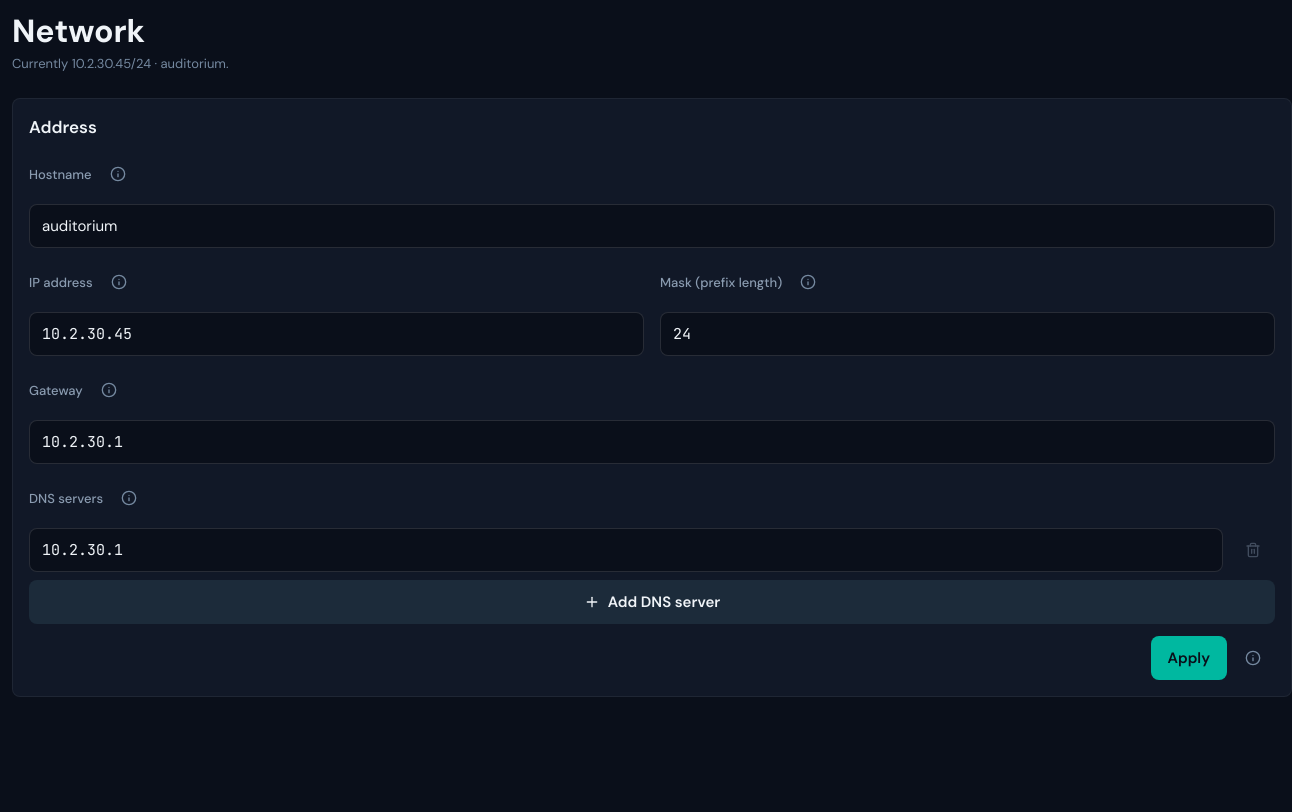
Test: NetworkScreen — validation › keeps Apply from submitting, and reports every failing field, on invalid input
Expected: the field showing "auditorium" is shown, [29,204,1275,248]
Replace the text in the field labelled "IP address" with "not-an-address" at [336, 334], box [29,312,644,356]
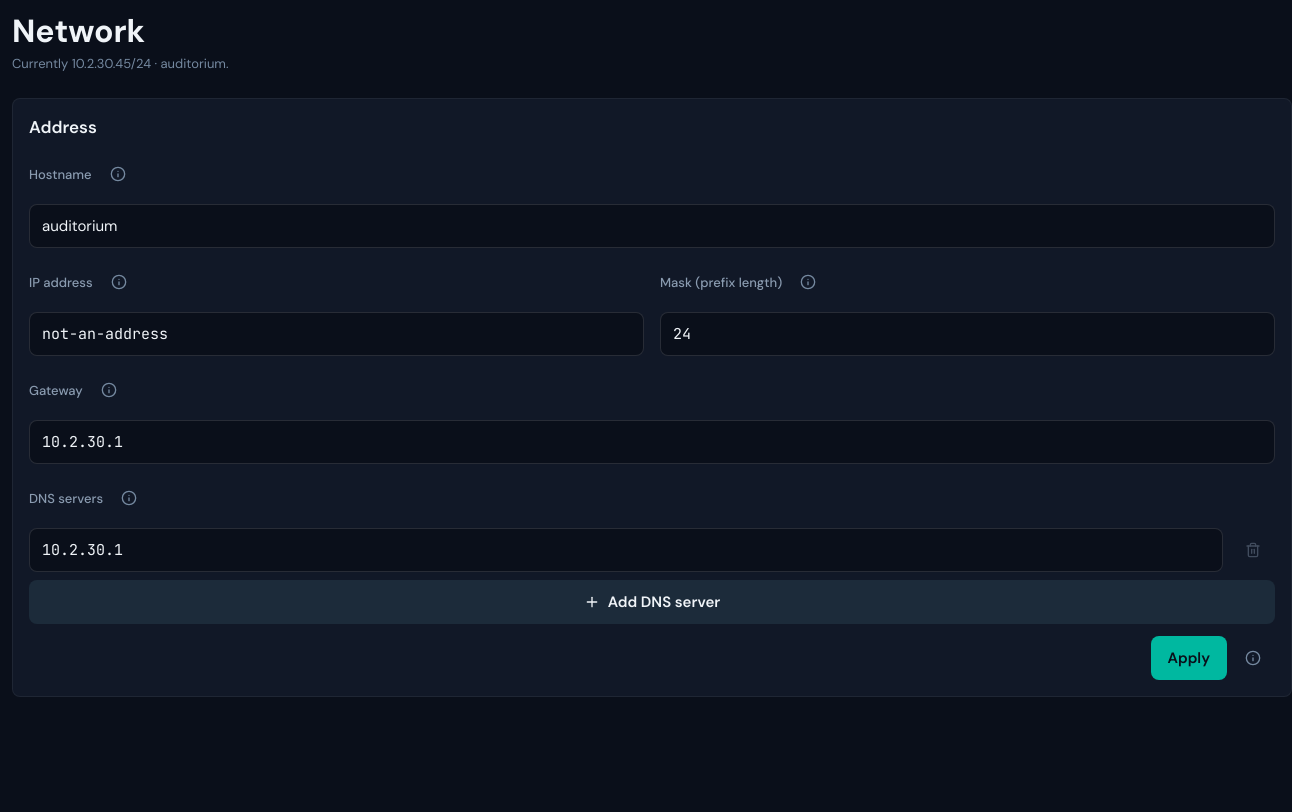
Click the button "Apply" at [1189, 658], box [1150,636,1227,680]
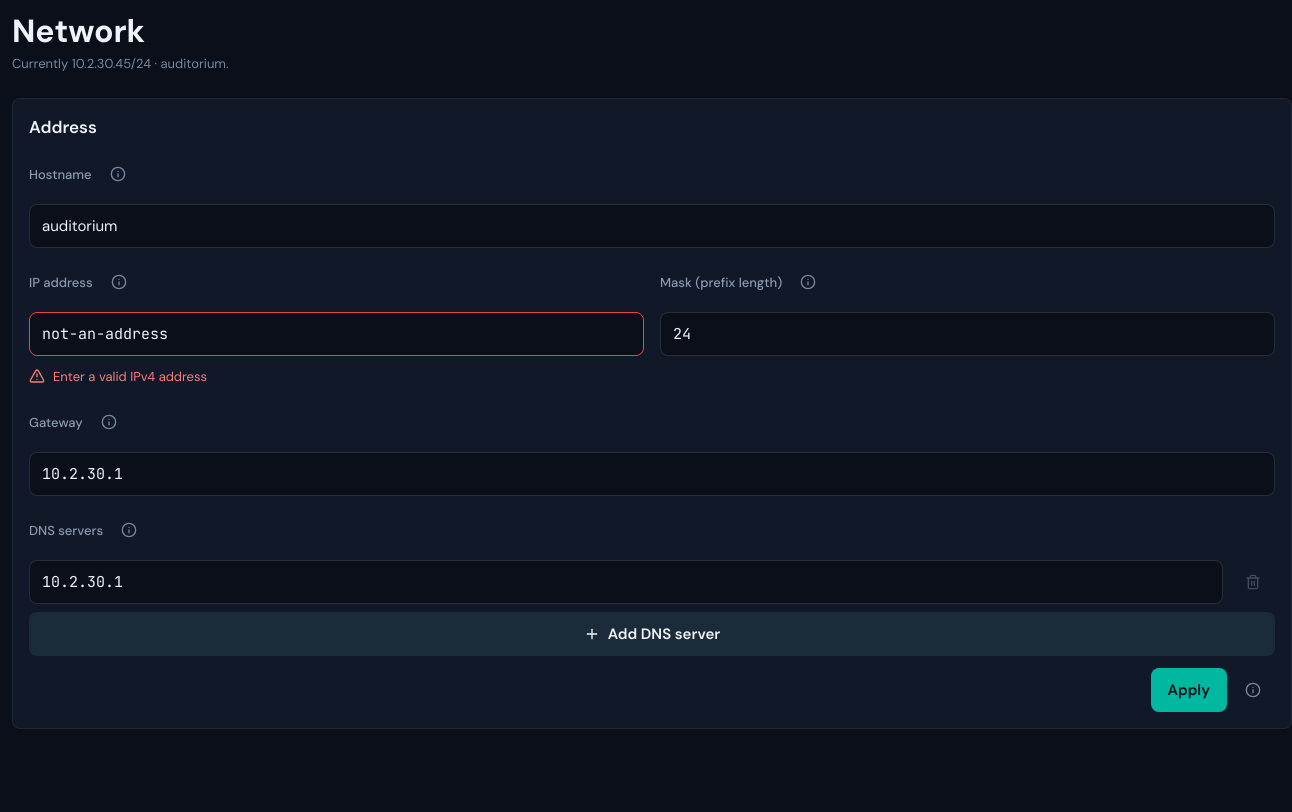
Now the text "Enter a valid IPv4 address" is shown, box [53,367,207,386]
